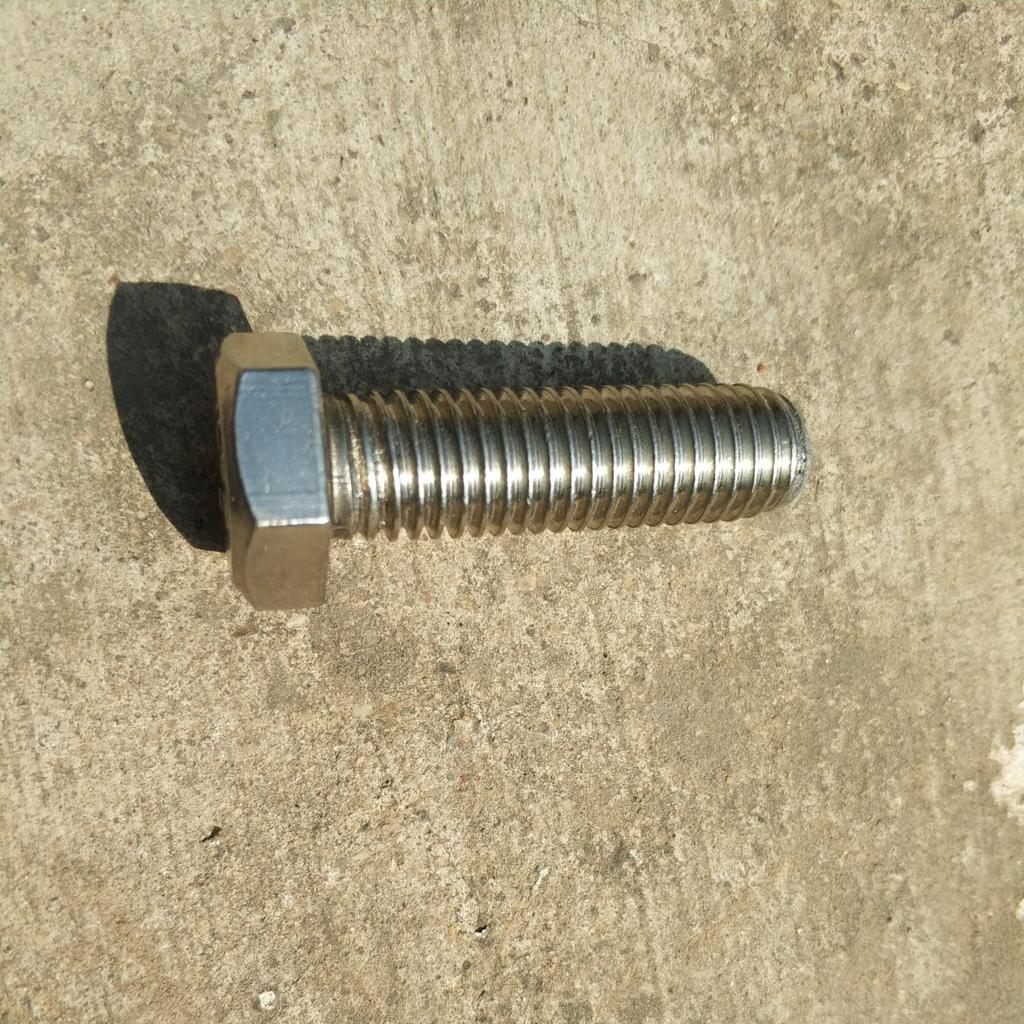screwtype2silver: (196, 319, 819, 619)
